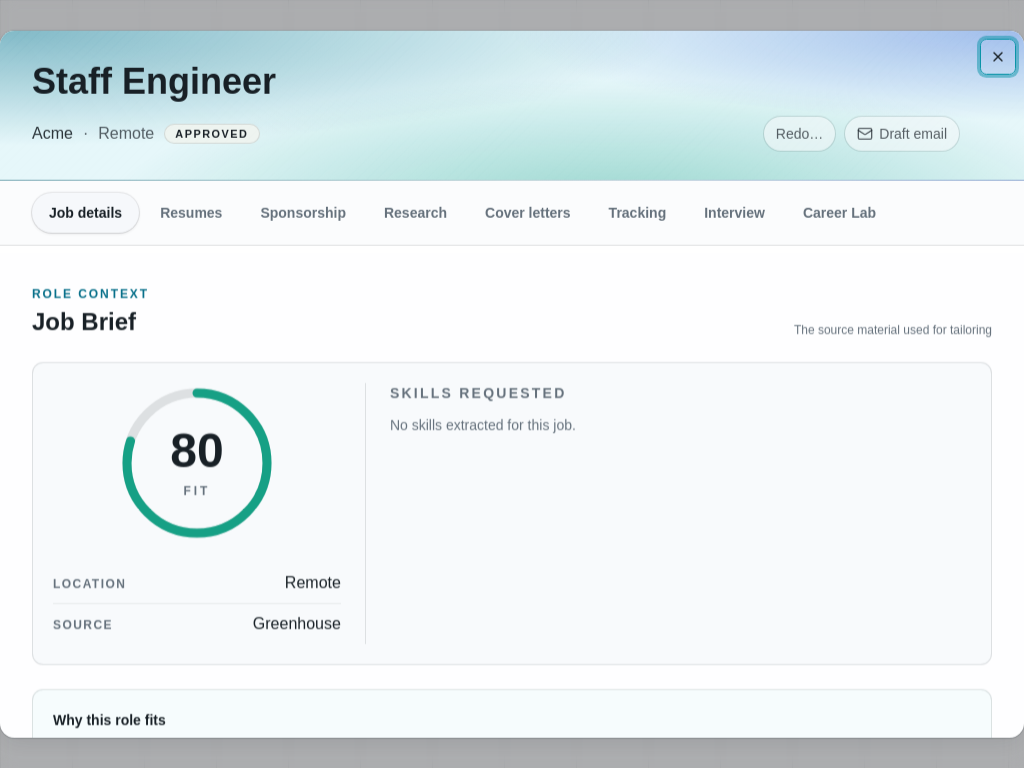
Test case: JobModal › gives H-1B research the full sponsorship canvas
Click the tab "Sponsorship" at (303, 213), box [243,193,363,233]
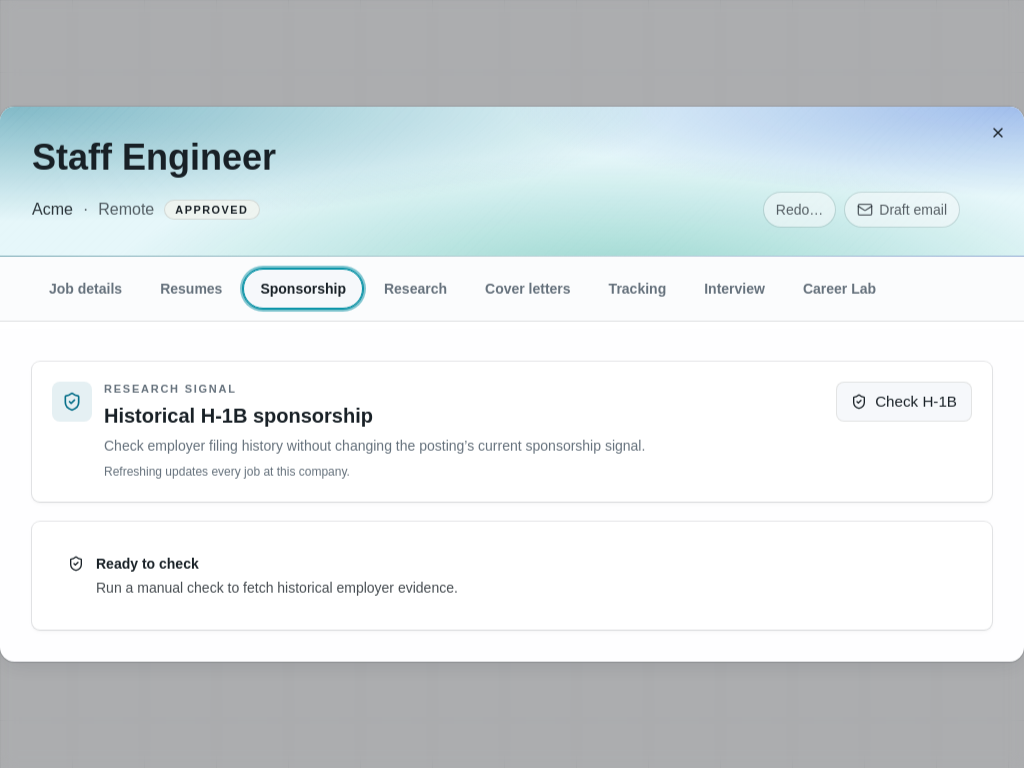
Expected: the heading "Historical H-1B sponsorship" is shown, [104,404,373,426]
